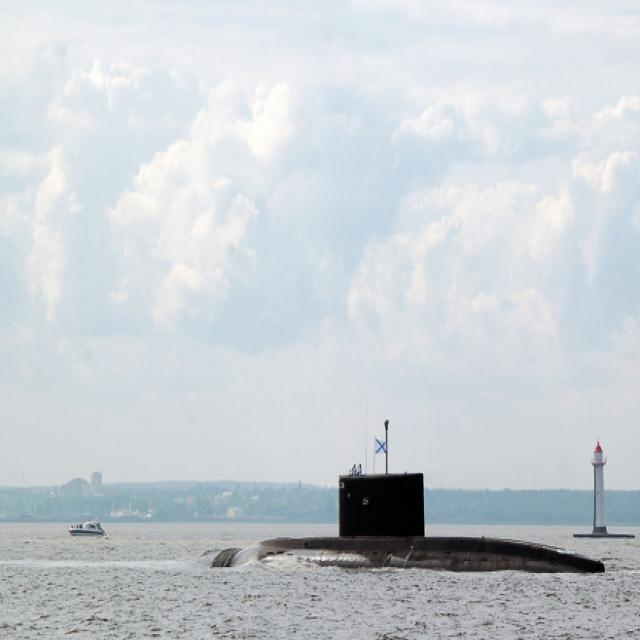submarine: (169, 370, 613, 607)
